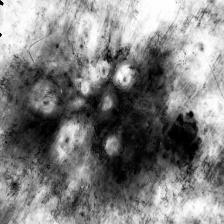Benign Marking or Mole: (0, 39, 202, 208)
